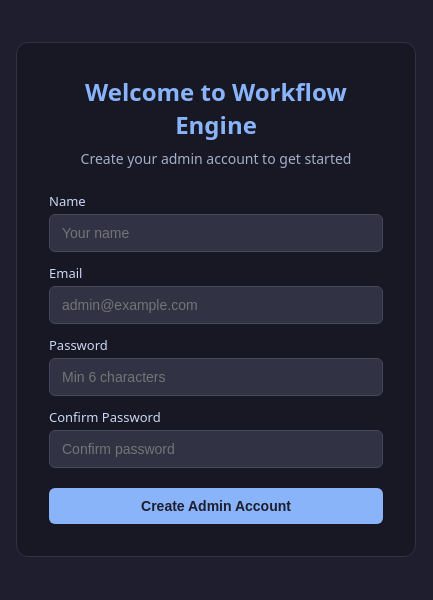
Test: SetupWizard › shows short password error
This screenshot has width=433, height=600.
Type "admin@test.com" into the field with placeholder "admin@example.com". click: (216, 304)
box: x1=49 y1=286 x2=383 y2=324
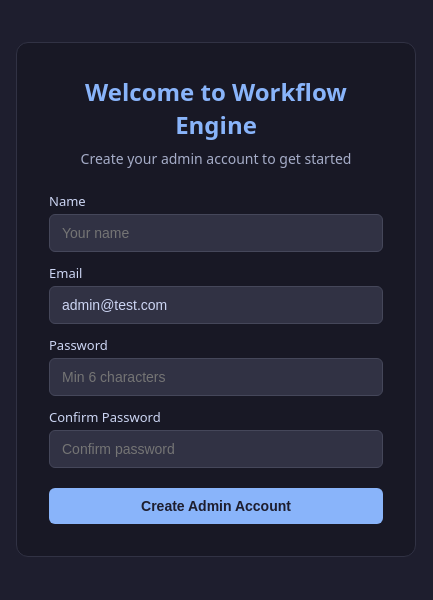
Type "pw" into the password field with placeholder "Min 6 characters". click: (216, 376)
box: x1=49 y1=358 x2=383 y2=396
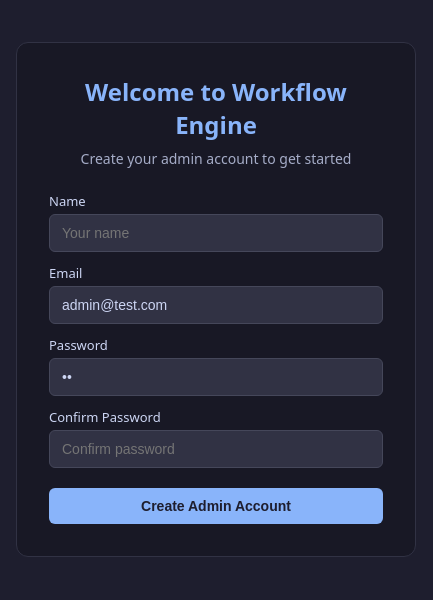
Type "pw" into the password field with placeholder "Confirm password". click: (216, 448)
box: x1=49 y1=430 x2=383 y2=468
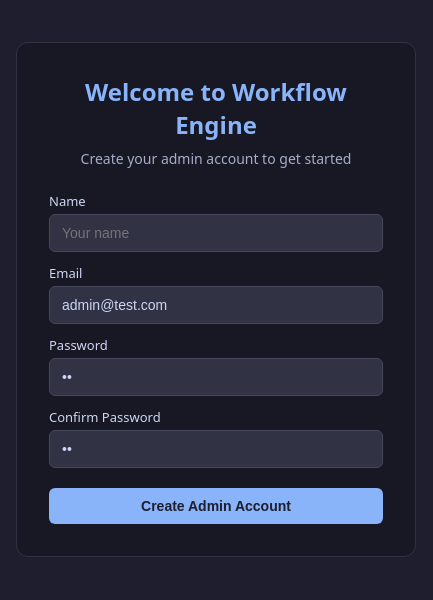
Click the button "Create Admin Account". click: (216, 506)
box: x1=49 y1=488 x2=383 y2=524
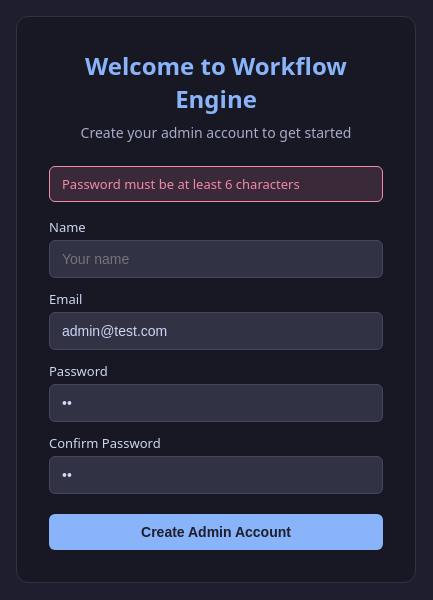
Check: the text "Password must be at least 6 characters" is shown, box x1=49 y1=166 x2=383 y2=202
